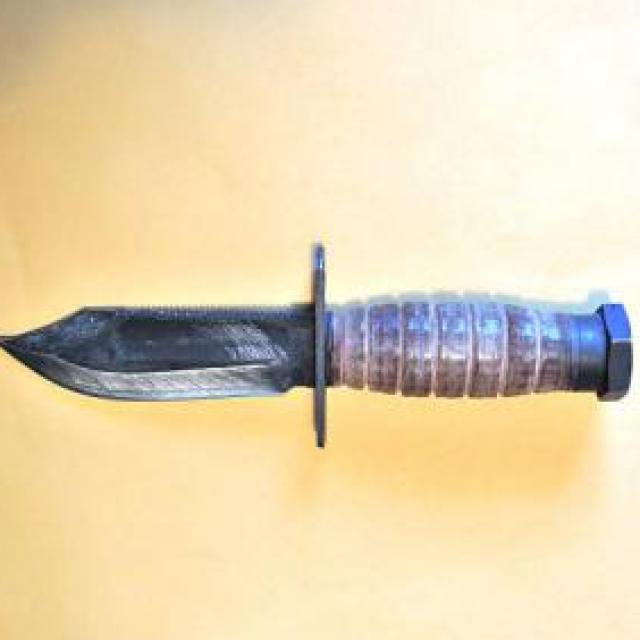knife: (0, 259, 629, 447)
